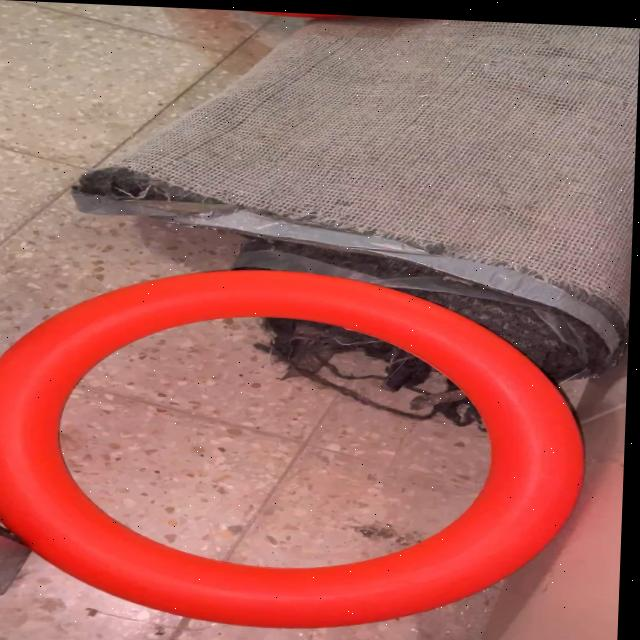note: (0, 256, 597, 638)
